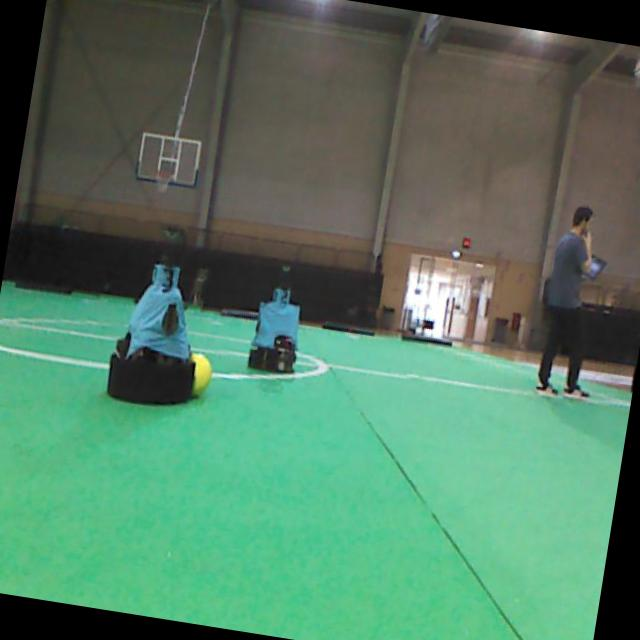ball: (191, 353, 211, 396)
